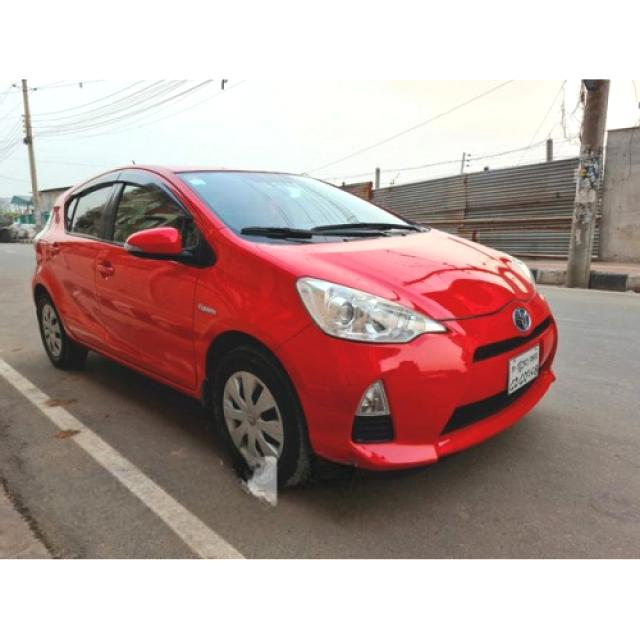red: (17, 154, 561, 502)
